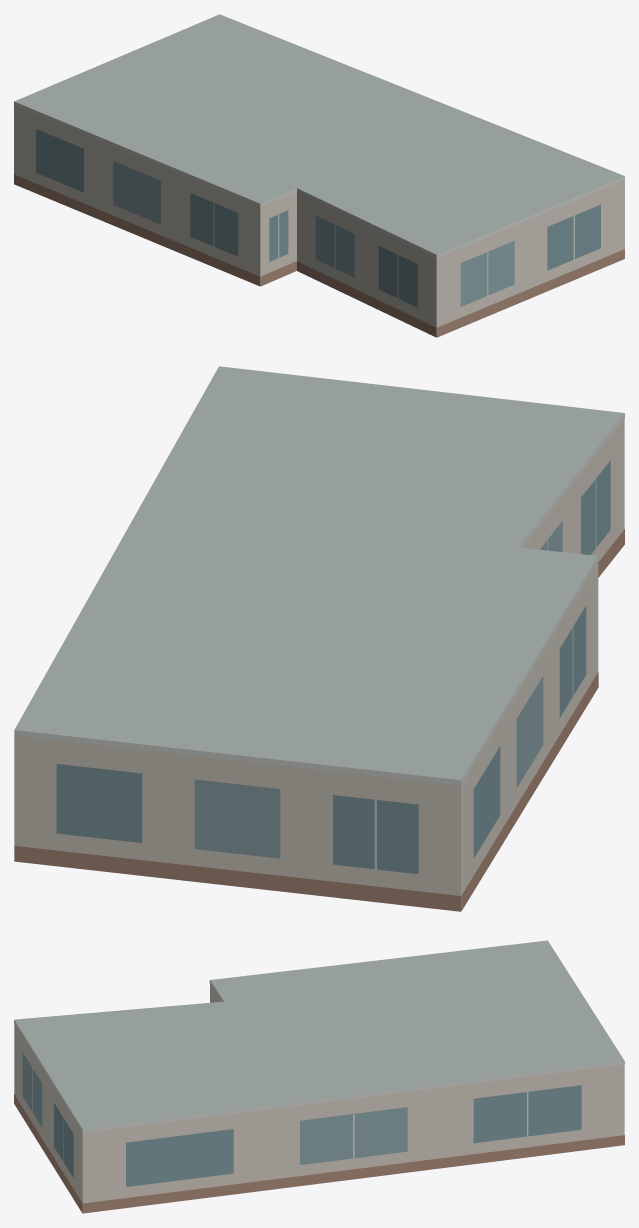
File: survey-upis-32751847.glb
3 views of the same model, one above another, from view 1: azimuth 30°, elevation 25°; view 2: azimuth 150°, elevation 25°; view 3: azimuth 270°, elevation 25° (orthographic). The views are drawn at different scales.
Visible parts, largest first — view 1: survey-upis-32751847.tmp; view 2: survey-upis-32751847.tmp; view 3: survey-upis-32751847.tmp.
Part boxes in pixels (x1,y1,x2,y2): survey-upis-32751847.tmp: (14, 14, 624, 337); survey-upis-32751847.tmp: (14, 366, 624, 911); survey-upis-32751847.tmp: (14, 940, 624, 1213).
Bounding box in the file's own units: 14.72 × 3.05 × 20.1.
